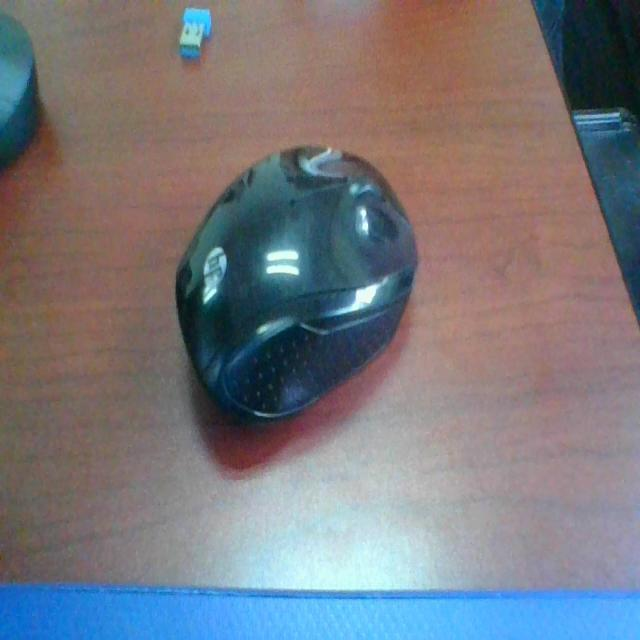mouse: (176, 133, 422, 428)
